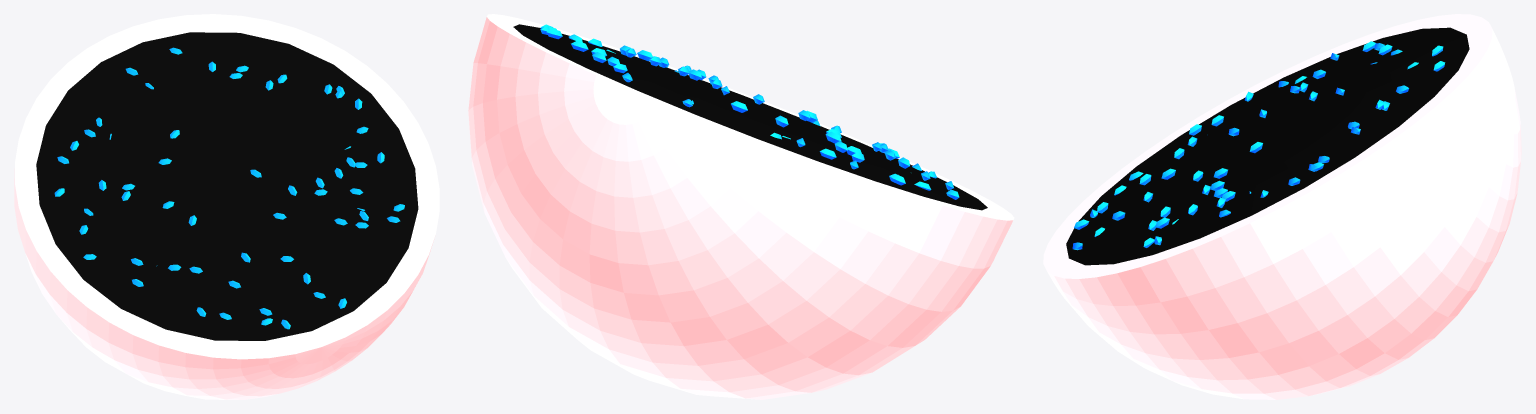
Rendered from DRAGON_FROOT2.dae.
The picture shows the model from 3 angles, left to right: view 1: azimuth 30°, elevation 25°; view 2: azimuth 150°, elevation 25°; view 3: azimuth 270°, elevation 25°; orthographic projection. The views are drawn at different scales.
Visible parts, largest first — view 1: Oil_Tank.1, Capsule, Capsule_0.1; view 2: Capsule, Oil_Tank.1, Capsule_0.1; view 3: Capsule, Oil_Tank.1, Capsule_0.1.
Boxes of the visible parts, x1=… form: Oil_Tank.1: x1=36, y1=32, x2=418, y2=340; Capsule: x1=14, y1=14, x2=439, y2=399; Capsule_0.1: x1=54, y1=47, x2=404, y2=329; Capsule: x1=468, y1=14, x2=1014, y2=399; Oil_Tank.1: x1=513, y1=24, x2=987, y2=210; Capsule_0.1: x1=540, y1=24, x2=959, y2=199; Capsule: x1=1043, y1=14, x2=1521, y2=399; Oil_Tank.1: x1=1066, y1=27, x2=1469, y2=265; Capsule_0.1: x1=1072, y1=41, x2=1445, y2=250.
Bounding box in the file's own units: 0.5964 × 0.4458 × 0.5649.
